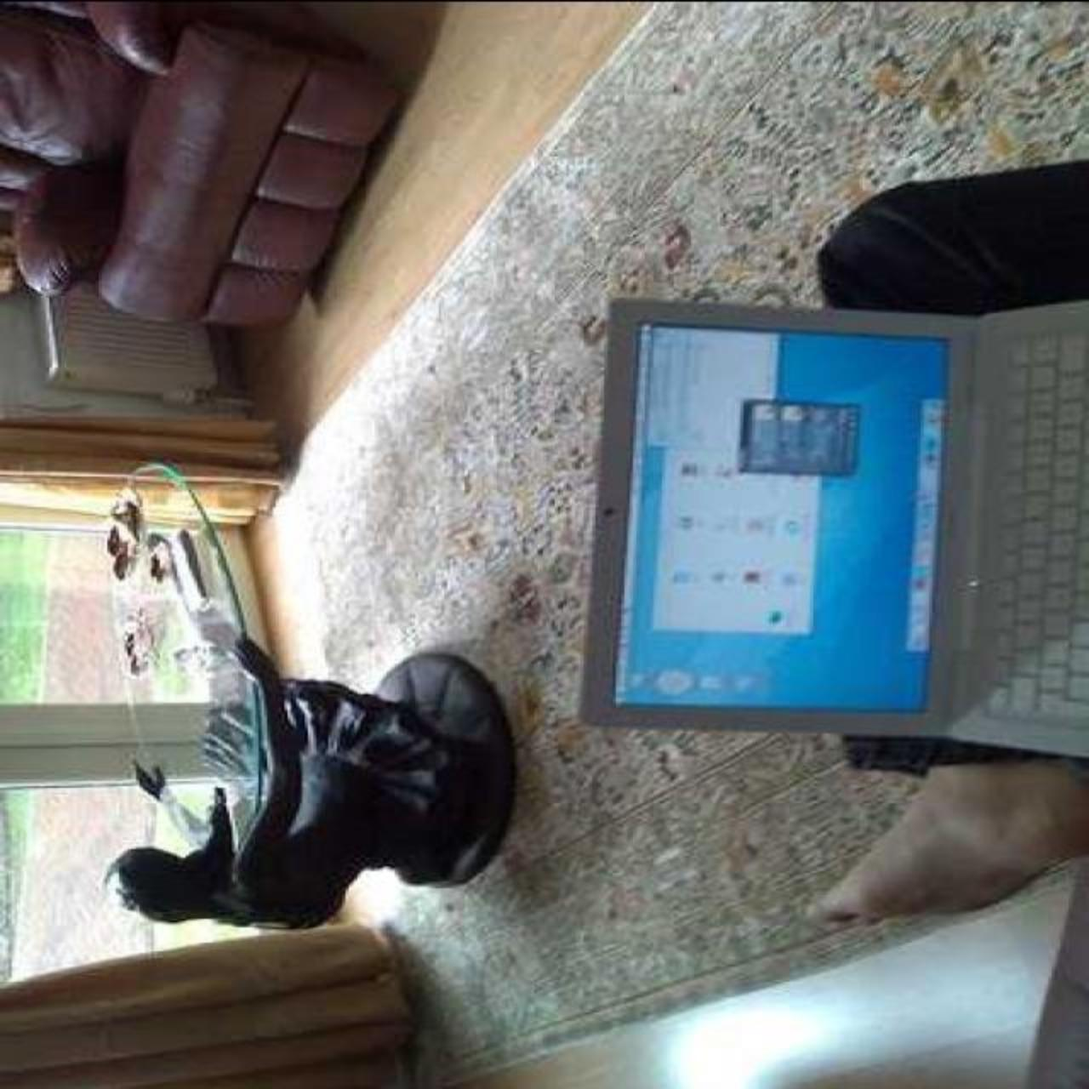laptop: (606, 277, 1089, 771)
